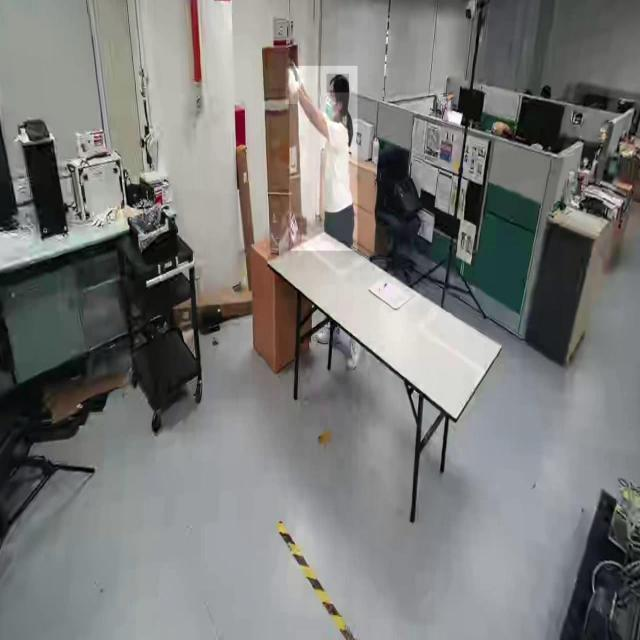gloves: (286, 58, 306, 90), (286, 68, 300, 105)
